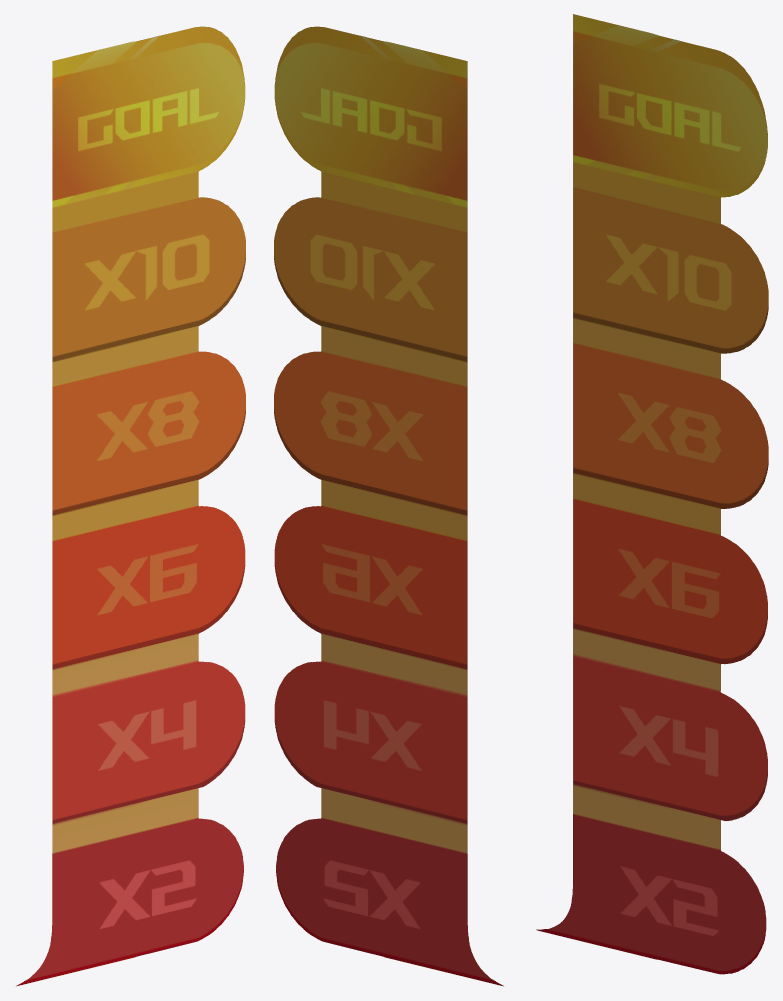
The model's file is Multiply_Bar.fbx.
3 renders of one model, left to right at view 1: azimuth 30°, elevation 25°; view 2: azimuth 150°, elevation 25°; view 3: azimuth 330°, elevation 25°, orthographic.
Visible parts, largest first — view 1: Multiply_Bar_10, Multiply_Bar_8, Multiply_Bar_4, Multiply_Bar_2, Multiply_Bar_6, Golden_Bar; view 2: Multiply_Bar_10, Multiply_Bar_8, Multiply_Bar_4, Multiply_Bar_2, Multiply_Bar_6, Golden_Bar; view 3: Multiply_Bar_10, Multiply_Bar_8, Multiply_Bar_2, Multiply_Bar_4, Multiply_Bar_6, Golden_Bar.
Boxes of the visible parts, x1=… form: Multiply_Bar_10: x1=52, y1=172, x2=245, y2=361; Multiply_Bar_8: x1=52, y1=326, x2=245, y2=515; Multiply_Bar_4: x1=52, y1=634, x2=245, y2=823; Multiply_Bar_2: x1=16, y1=788, x2=243, y2=986; Multiply_Bar_6: x1=52, y1=480, x2=245, y2=669; Golden_Bar: x1=52, y1=26, x2=245, y2=208; Multiply_Bar_10: x1=274, y1=172, x2=467, y2=361; Multiply_Bar_8: x1=274, y1=326, x2=467, y2=515; Multiply_Bar_4: x1=274, y1=634, x2=467, y2=823; Multiply_Bar_2: x1=276, y1=788, x2=503, y2=986; Multiply_Bar_6: x1=274, y1=480, x2=467, y2=669; Golden_Bar: x1=274, y1=26, x2=467, y2=208; Multiply_Bar_10: x1=573, y1=162, x2=768, y2=353; Multiply_Bar_8: x1=573, y1=318, x2=768, y2=509; Multiply_Bar_2: x1=536, y1=784, x2=766, y2=974; Multiply_Bar_4: x1=573, y1=628, x2=767, y2=820; Multiply_Bar_6: x1=573, y1=473, x2=767, y2=664; Golden_Bar: x1=573, y1=14, x2=767, y2=198.
Bounding box in the file's own units: 157 × 594 × 0.
